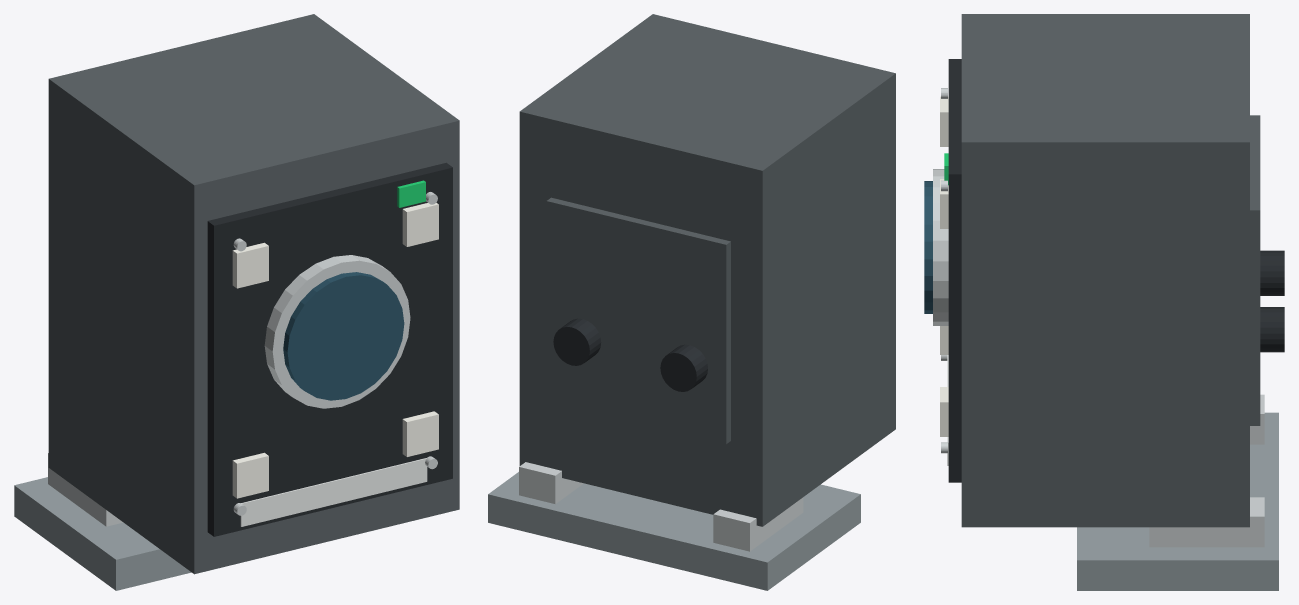
3 renders of one model, left to right at view 1: azimuth 30°, elevation 25°; view 2: azimuth 150°, elevation 25°; view 3: azimuth 270°, elevation 25°, orthographic. The views are drawn at different scales.
Visible parts, largest first — view 1: housing, front bezel, optical lens, Mount bracket, lens surround, front branding panel, illumination emitter, illumination emitter.002, illumination emitter.003, illumination emitter.001, mounting flange, status indicator; view 2: housing, Rear connector plate, Mount bracket, mounting flange, mounting flange.001, Electrical connector.001, Electrical connector; view 3: housing, Mount bracket, front bezel, Rear connector plate, mounting flange.001, lens surround, optical lens, Electrical connector, Electrical connector.001.
Boxes of the visible parts, x1=… form: housing: x1=48, y1=14, x2=459, y2=574; front bezel: x1=207, y1=162, x2=452, y2=536; optical lens: x1=283, y1=272, x2=404, y2=400; Mount bracket: x1=14, y1=477, x2=191, y2=590; lens surround: x1=264, y1=255, x2=410, y2=408; front branding panel: x1=240, y1=458, x2=427, y2=526; illumination emitter: x1=232, y1=452, x2=268, y2=498; illumination emitter.002: x1=402, y1=411, x2=438, y2=456; illumination emitter.003: x1=402, y1=202, x2=438, y2=246; illumination emitter.001: x1=232, y1=242, x2=268, y2=288; mounting flange: x1=48, y1=453, x2=123, y2=526; status indicator: x1=397, y1=180, x2=425, y2=207; housing: x1=519, y1=14, x2=895, y2=526; Rear connector plate: x1=546, y1=197, x2=730, y2=444; Mount bracket: x1=488, y1=472, x2=860, y2=590; mounting flange: x1=713, y1=497, x2=803, y2=551; mounting flange.001: x1=519, y1=462, x2=583, y2=504; Electrical connector.001: x1=553, y1=318, x2=601, y2=365; Electrical connector: x1=660, y1=344, x2=707, y2=391; housing: x1=961, y1=14, x2=1249, y2=527; Mount bracket: x1=1077, y1=412, x2=1278, y2=590; front bezel: x1=948, y1=59, x2=961, y2=482; Rear connector plate: x1=1250, y1=115, x2=1260, y2=425; mounting flange.001: x1=1149, y1=497, x2=1264, y2=547; lens surround: x1=933, y1=169, x2=948, y2=325; optical lens: x1=924, y1=181, x2=932, y2=313; Electrical connector: x1=1260, y1=250, x2=1284, y2=295; Electrical connector.001: x1=1260, y1=307, x2=1284, y2=352.
Size of the model in its own units: 0.115 by 0.1596 by 0.1188.
